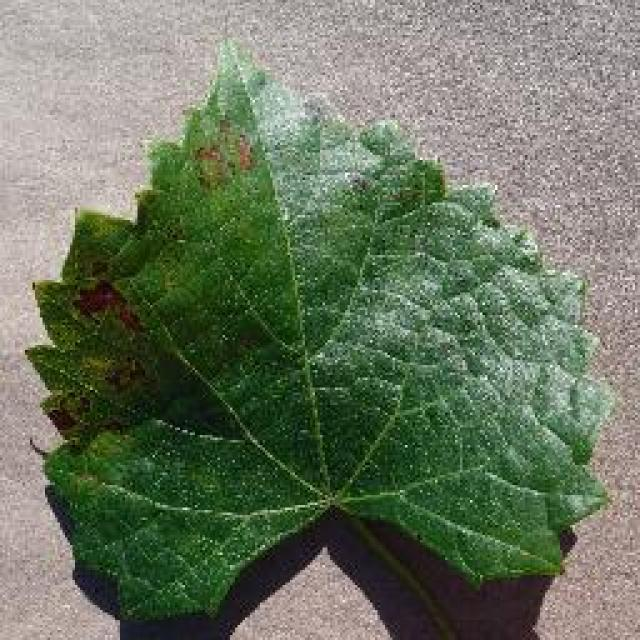Black_Measles: (33, 25, 625, 640)
